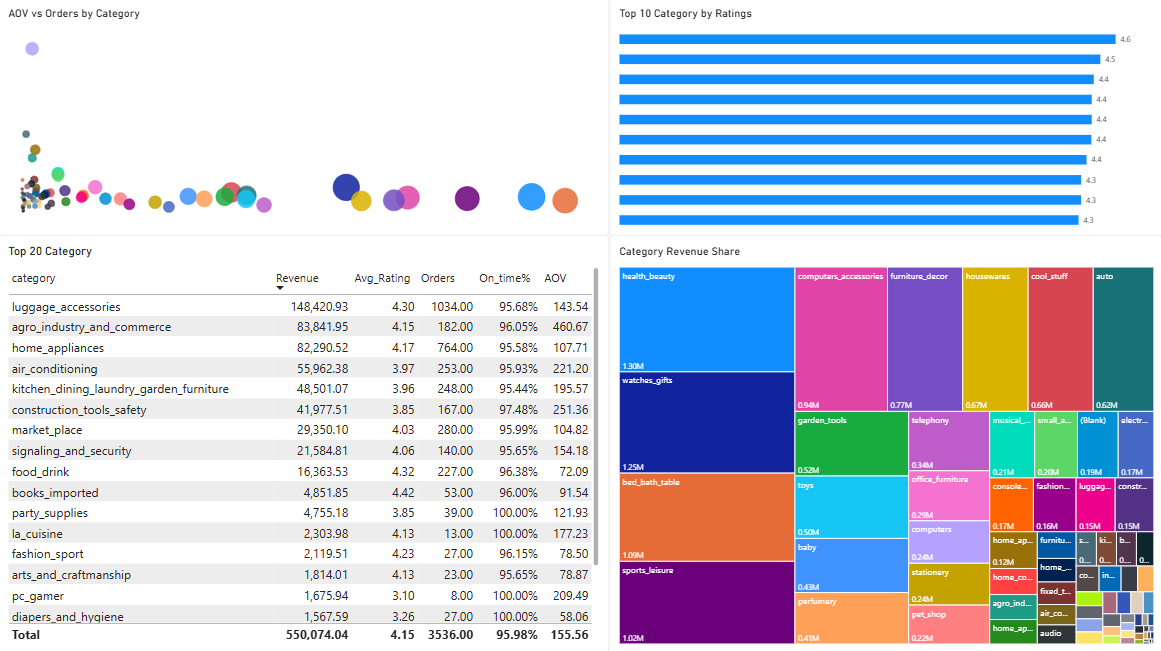

The page's visual inventory and layout, read from the dashboard file:
{"tool":"powerbi","page":{"name":"Category & Product","canvas":[1920,1080],"ordinal":2},"visuals":[{"type":"treemap","title":"Category Revenue Share","fields":{"Group":["public bi_fact_sales.category"],"Values":["public bi_fact_sales.Revenue"]},"box":[1006.5,391.1,913.9,689.5],"z":0},{"type":"scatterChart","title":"AOV vs Orders by Category","fields":{"Series":["public bi_fact_sales.category"],"Size":["public bi_fact_sales.Revenue"],"X":["public bi_fact_sales.Orders"],"Y":["public bi_fact_sales.AOV"]},"box":[0,0,1006.5,391.1],"z":1000},{"type":"barChart","title":"Top 10 Category by Ratings","fields":{"Category":["public bi_fact_sales.category"],"Y":["public bi_fact_sales.Avg_Rating"]},"box":[1006.5,0,913.9,391.1],"z":2000},{"type":"tableEx","title":"Top 20 Category","fields":{"Values":["public bi_fact_sales.category","public bi_fact_sales.Revenue","public bi_fact_sales.Avg_Rating","public bi_fact_sales.Orders","public bi_fact_sales.On_time%","public bi_fact_sales.AOV"]},"box":[0,390.9,1006.2,689.5],"z":3000}]}

Visuals, with their boxes in screenshot pixels (x1, y1, x2, y2), scaled from the page's 1920x1080 canvas onto the 1161x651 screenshot:
"Category Revenue Share" treemap: BBox(609, 236, 1160, 650)
"AOV vs Orders by Category" scatterChart: BBox(0, 0, 609, 236)
"Top 10 Category by Ratings" barChart: BBox(609, 0, 1160, 236)
"Top 20 Category" tableEx: BBox(0, 236, 608, 650)
